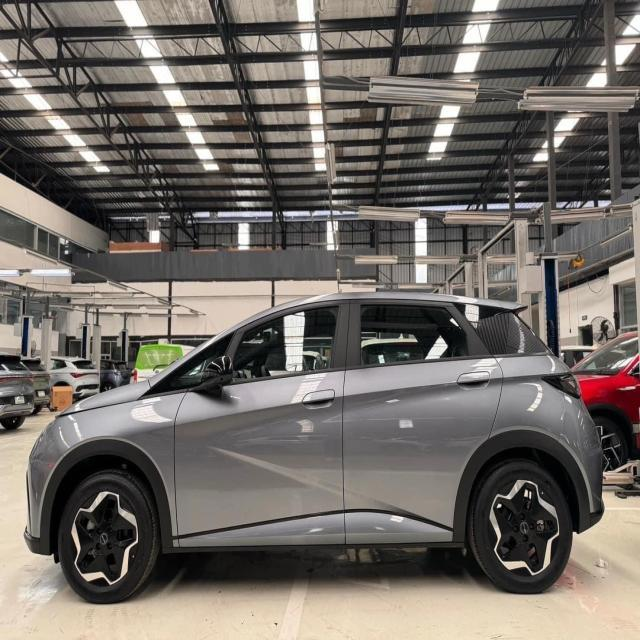Hatchback: (23, 291, 606, 607)
